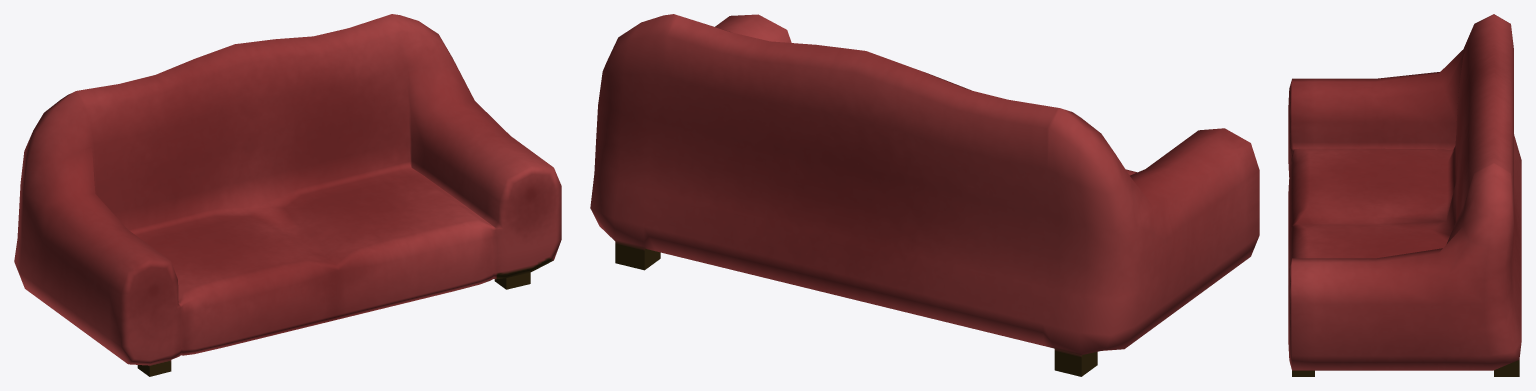
File: billiard sofa.fbx
3 views of the same model, side by side, from view 1: azimuth 30°, elevation 25°; view 2: azimuth 150°, elevation 25°; view 3: azimuth 270°, elevation 25° (orthographic). The views are drawn at different scales.
Parts seen in each view (by area): view 1: polySurface422; view 2: polySurface422; view 3: polySurface422.
Part boxes in pixels (x1=…): polySurface422: x1=14, y1=14, x2=561, y2=376; polySurface422: x1=590, y1=14, x2=1259, y2=376; polySurface422: x1=1288, y1=14, x2=1521, y2=376.
Size of the model in its own units: 2.25 by 1.03 by 1.06.
1 material, 1 textured.
